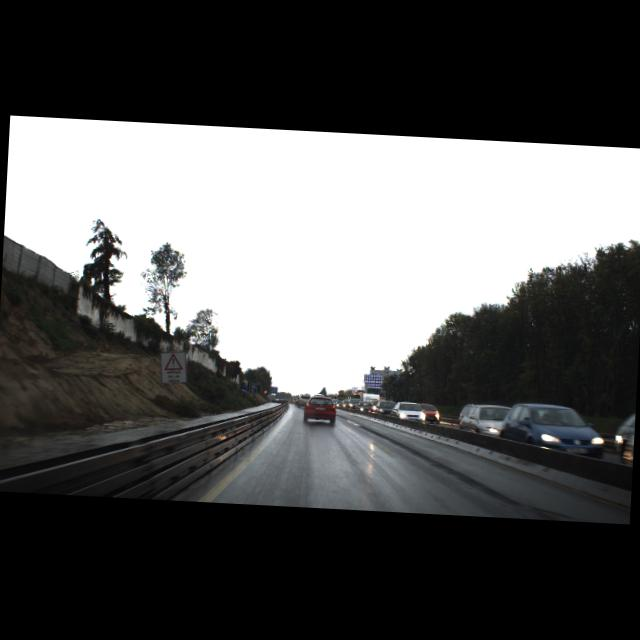danger: (164, 353, 184, 372)
